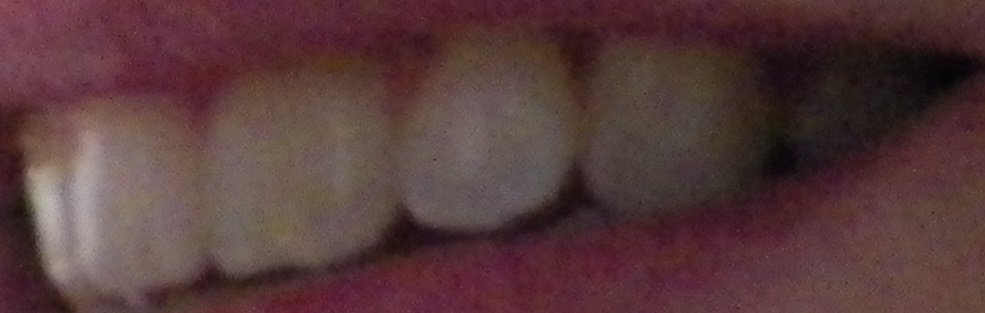boca: (25, 37, 869, 307)
